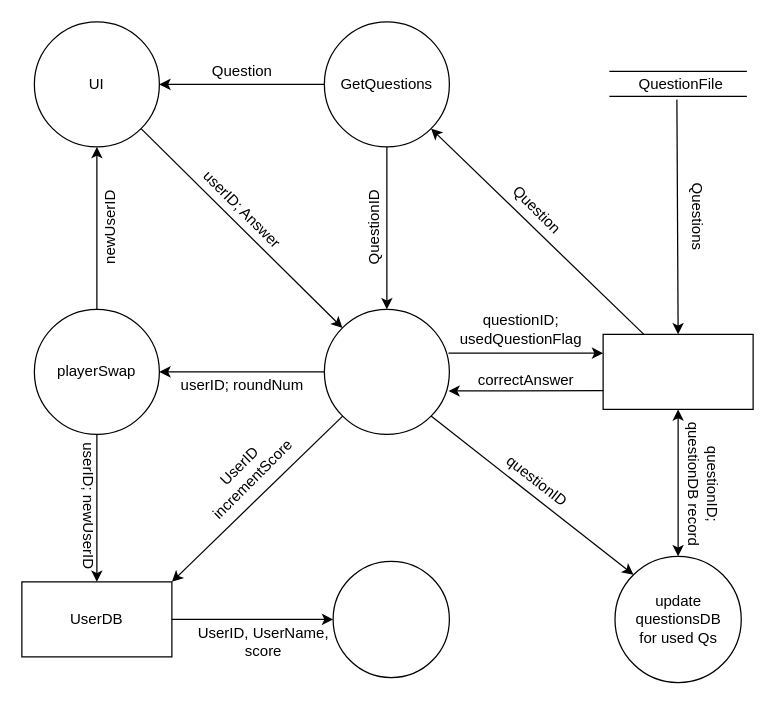
The diagram is 775 pixels wide and 705 high, and some of its shapes have lost their labels. Each missing label, with the box of its shape:
checkQuestions: (323, 308, 449, 434)
QuestionsDB: (602, 333, 753, 409)
Winnings: (332, 560, 449, 678)
